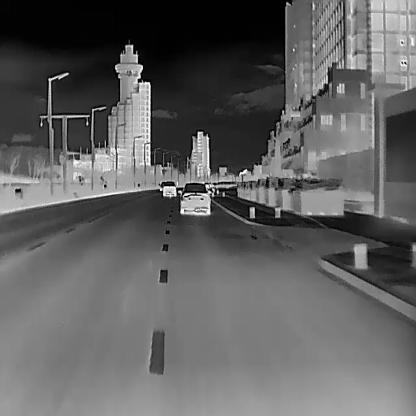car: (177, 181, 210, 215), (161, 180, 176, 196)
